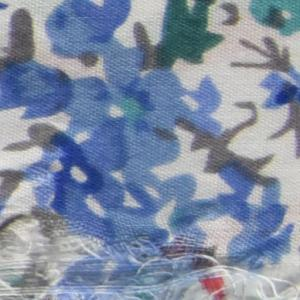Damage: (1, 198, 300, 300)
